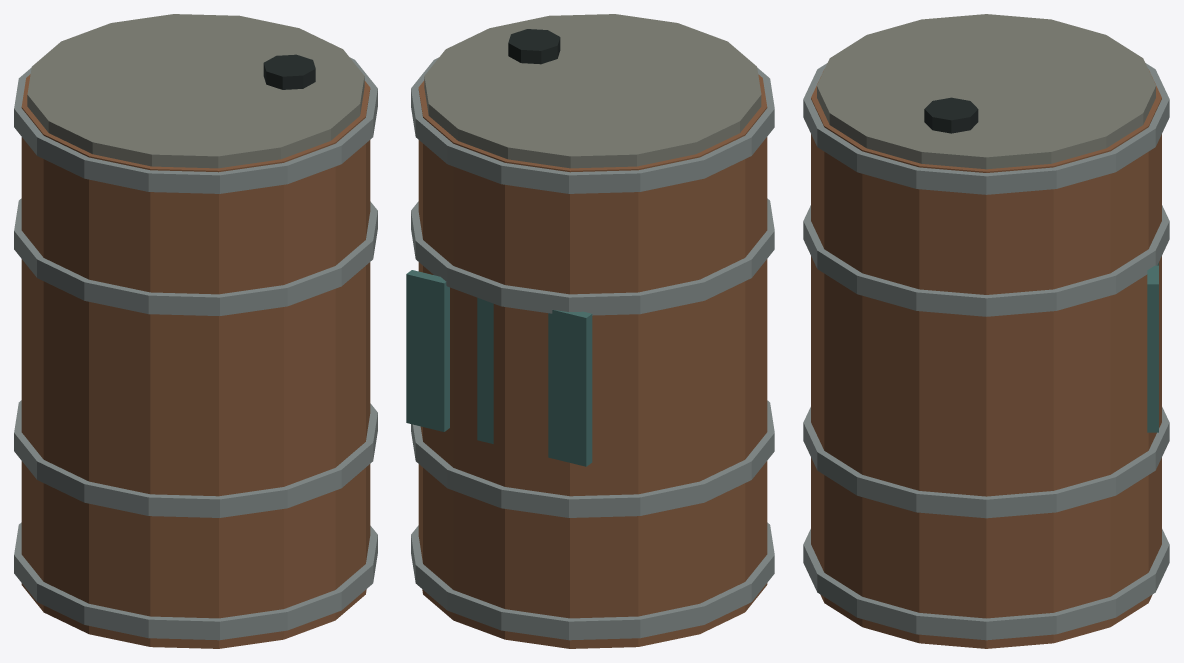
Rendered from rusty_barrel.glb.
3 views of the same model, side by side, from view 1: azimuth 30°, elevation 25°; view 2: azimuth 150°, elevation 25°; view 3: azimuth 270°, elevation 25° (orthographic).
Parts seen in each view (by area): view 1: rusty_barrel_visual; view 2: rusty_barrel_visual; view 3: rusty_barrel_visual.
Part boxes in pixels (<box>): rusty_barrel_visual: <box>14,14,377,648</box>; rusty_barrel_visual: <box>406,14,774,648</box>; rusty_barrel_visual: <box>803,14,1169,648</box>.
Bounding box in the file's own units: 0.626 × 0.9485 × 0.626.
